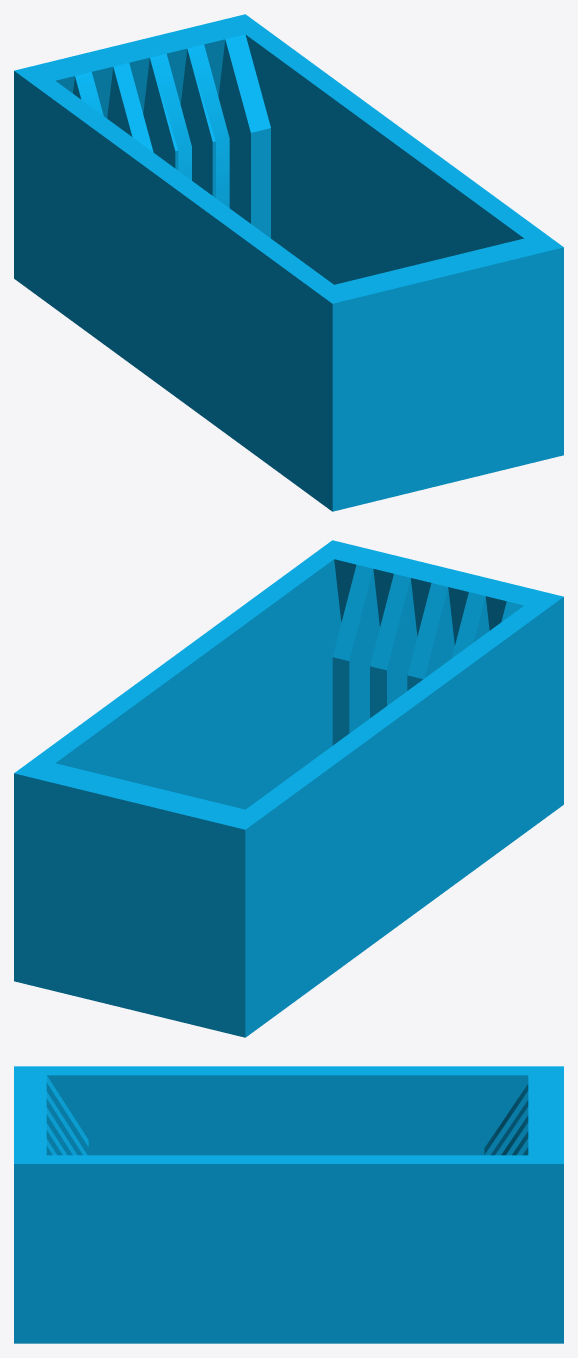
The model's file is box_bak.fbx.
3 renders of one model, top to bottom at view 1: azimuth 30°, elevation 25°; view 2: azimuth 150°, elevation 25°; view 3: azimuth 270°, elevation 25°, orthographic. The views are drawn at different scales.
Parts seen in each view (by area): view 1: se 8\box top_c_2_0.001; view 2: se 8\box top_c_2_0.001; view 3: se 8\box top_c_2_0.001.
Boxes of the visible parts, x1,y1,x2,y2 form: se 8\box top_c_2_0.001: (14,14,563,511); se 8\box top_c_2_0.001: (14,540,563,1037); se 8\box top_c_2_0.001: (14,1066,563,1343).
Size of the model in its own units: 48.2 by 41.38 by 115.
